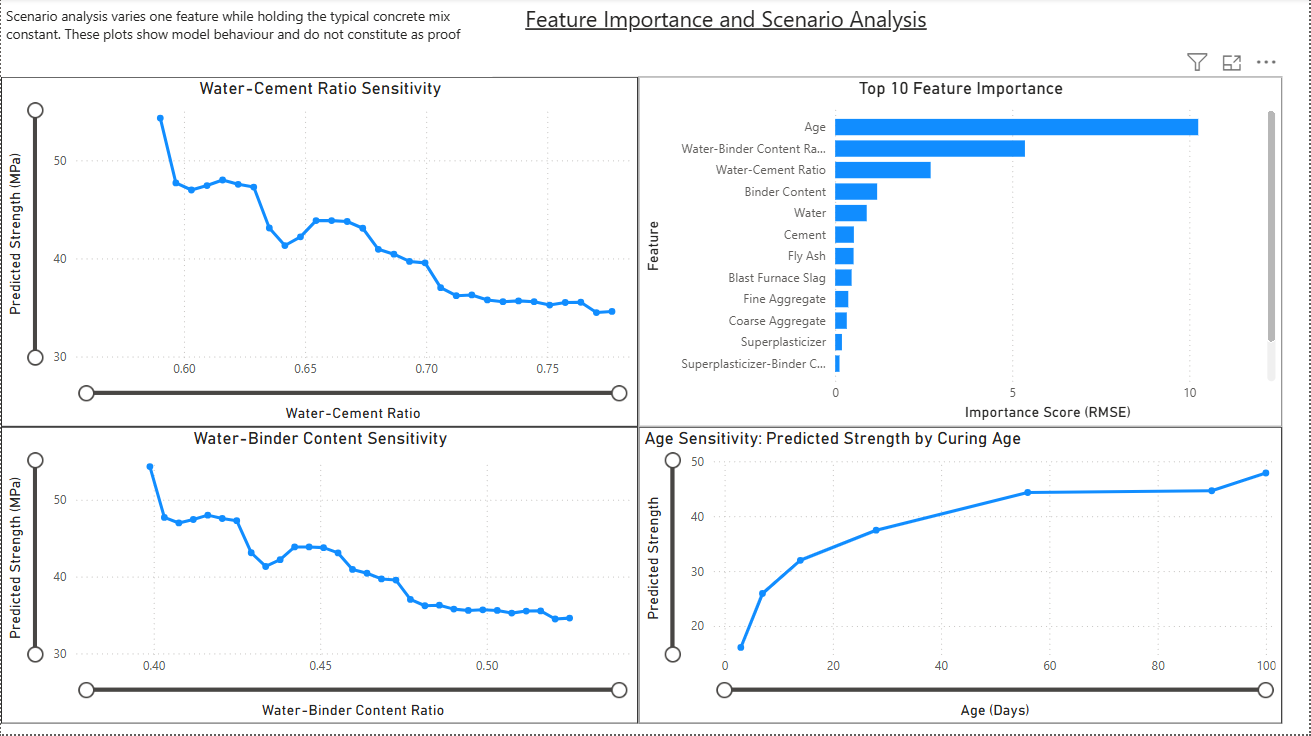

What the dashboard file says about the page in this screenshot:
{"tool":"powerbi","page":{"name":"Page 3 - Feature Importance and Scenario Analysis","canvas":[1280,720],"ordinal":2},"visuals":[{"type":"lineChart","title":"Water-Cement Ratio Sensitivity","fields":{"Category":["Scenario_Water.Water-Cement Ratio"],"Y":["Sum(Scenario_Water.Predicted Strength)"]},"box":[0,77,623.3,342.1],"z":0},{"type":"barChart","title":"Top 10 Feature Importance ","fields":{"Category":["Feature Importance.Feature"],"Y":["Sum(Feature Importance.RMSE_Importance (avg))"]},"box":[623.3,77,629.6,342.1],"z":1000},{"type":"lineChart","title":"Water-Binder Content Sensitivity","fields":{"Category":["Scenario_Water.Water-Binder Content Ratio"],"Y":["Sum(Scenario_Water.Predicted Strength)"]},"box":[0,419.1,623.3,290.1],"z":2000},{"type":"lineChart","title":"Age Sensitivity: Predicted Strength by Curing Age","fields":{"Category":["Scenario_Age_Results.Age"],"Y":["Sum(Scenario_Age_Results.Predicted Strength)"]},"box":[623.3,419.1,629.6,290.1],"z":3000},{"type":"textbox","box":[480.9,0,332.2,66.3],"z":4000},{"type":"textbox","box":[0,3.6,480.9,73.4],"z":5000}]}

Visuals, with their boxes in screenshot pixels (x1, y1, x2, y2), scaled from the page's 1280x720 canvas onto the 1311x736 screenshot:
"Water-Cement Ratio Sensitivity" lineChart: <bbox>0, 79, 638, 428</bbox>
"Top 10 Feature Importance " barChart: <bbox>638, 79, 1283, 428</bbox>
"Water-Binder Content Sensitivity" lineChart: <bbox>0, 428, 638, 725</bbox>
"Age Sensitivity: Predicted Strength by Curing Age" lineChart: <bbox>638, 428, 1283, 725</bbox>
textbox: <bbox>493, 0, 833, 68</bbox>
textbox: <bbox>0, 4, 493, 79</bbox>
